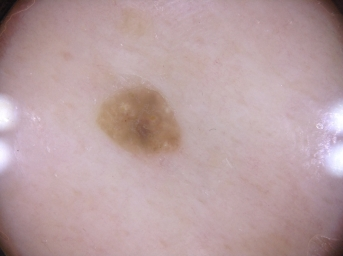seborrheic keratosis: (74, 59, 198, 175)
